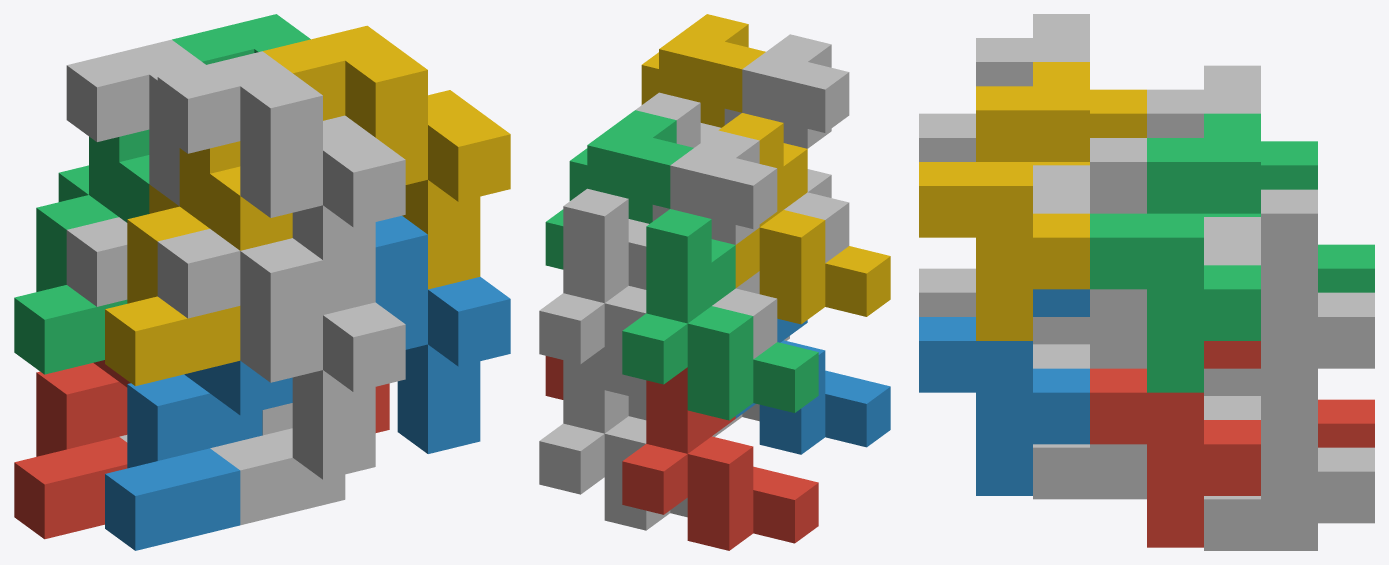
The model's file is tiling.obj.
The picture shows the model from 3 angles, left to right: view 1: azimuth 30°, elevation 25°; view 2: azimuth 150°, elevation 25°; view 3: azimuth 270°, elevation 25°; orthographic projection. The views are drawn at different scales.
Parts seen in each view (by area): view 1: copy_2_domain_4, copy_2_domain_2, copy_2_domain_8, copy_1_domain_2, copy_1_domain_4, copy_2_domain_6, copy_1_domain_3, copy_1_domain_1, copy_2_domain_3, copy_1_domain_6, copy_2_domain_1, copy_2_domain_7 (+1 smaller); view 2: copy_1_domain_3, copy_1_domain_1, copy_1_domain_4, copy_1_domain_7, copy_1_domain_5, copy_2_domain_3, copy_2_domain_7, copy_2_domain_4, copy_2_domain_8, copy_1_domain_2, copy_2_domain_1, copy_2_domain_2 (+2 smaller); view 3: copy_2_domain_7, copy_2_domain_8, copy_1_domain_5, copy_2_domain_5, copy_2_domain_6, copy_1_domain_7, copy_1_domain_6, copy_2_domain_4, copy_1_domain_8, copy_2_domain_3, copy_1_domain_3, copy_1_domain_4 (+2 smaller).
Part boxes in pixels (<box>): copy_2_domain_4: <box>157,51,405,314</box>; copy_2_domain_2: <box>157,229,405,479</box>; copy_2_domain_8: <box>263,25,510,289</box>; copy_1_domain_2: <box>105,360,292,550</box>; copy_1_domain_4: <box>105,141,292,386</box>; copy_2_domain_6: <box>375,215,510,453</box>; copy_1_domain_3: <box>14,129,149,374</box>; copy_1_domain_1: <box>14,360,130,539</box>; copy_2_domain_3: <box>66,39,205,205</box>; copy_1_domain_6: <box>210,403,345,525</box>; copy_2_domain_1: <box>66,217,127,306</box>; copy_2_domain_7: <box>172,14,310,64</box>; copy_1_domain_3: <box>622,209,818,420</box>; copy_1_domain_1: <box>622,367,818,550</box>; copy_1_domain_4: <box>718,113,890,324</box>; copy_1_domain_7: <box>539,188,648,399</box>; copy_1_domain_5: <box>539,347,687,530</box>; copy_2_domain_3: <box>628,130,777,289</box>; copy_2_domain_7: <box>545,110,693,269</box>; copy_2_domain_4: <box>724,34,849,148</box>; copy_2_domain_8: <box>641,14,765,127</box>; copy_1_domain_2: <box>735,318,890,454</box>; copy_2_domain_1: <box>628,271,777,436</box>; copy_2_domain_2: <box>784,169,849,340</box>; copy_2_domain_7: <box>1090,113,1260,392</box>; copy_2_domain_8: <box>919,62,1089,340</box>; copy_1_domain_5: <box>1204,368,1374,550</box>; copy_2_domain_5: <box>1090,341,1260,547</box>; copy_2_domain_6: <box>919,289,1089,495</box>; copy_1_domain_7: <box>1204,189,1374,395</box>; copy_1_domain_6: <box>1033,317,1146,499</box>; copy_2_domain_4: <box>919,14,1089,189</box>; copy_1_domain_8: <box>1033,138,1146,344</box>; copy_2_domain_3: <box>1147,65,1260,240</box>; copy_1_domain_3: <box>1204,141,1374,292</box>; copy_1_domain_4: <box>1033,89,1146,165</box>.
Size of the model in its own units: 6 by 9 by 8.
